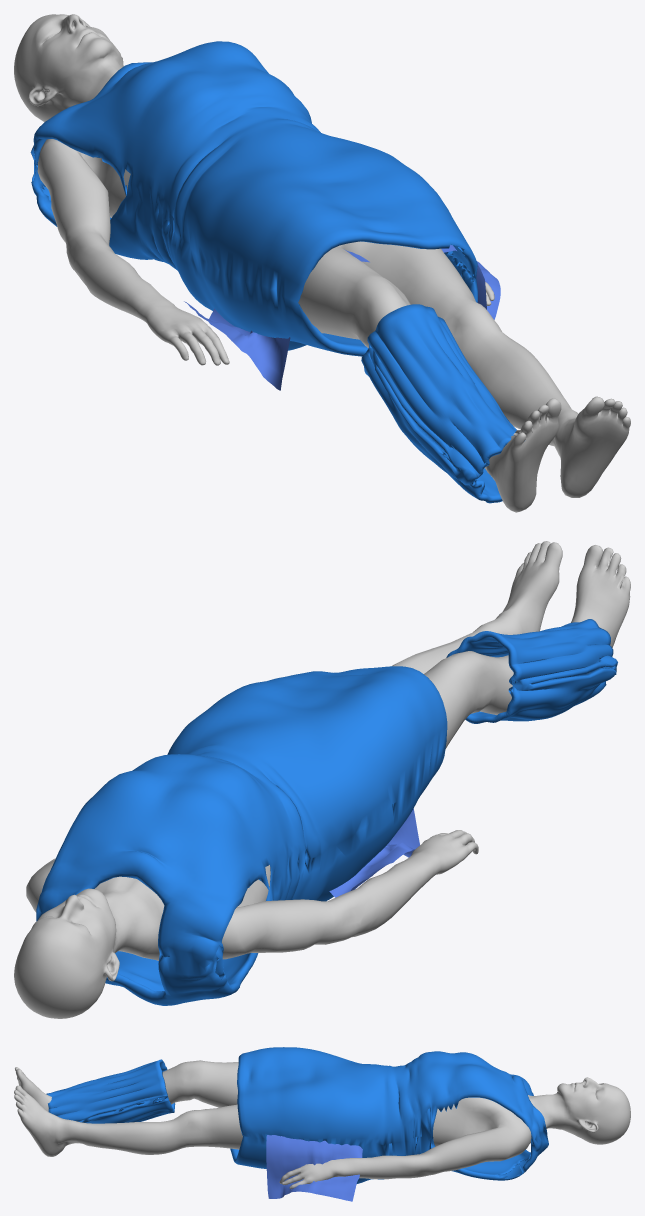
File: KNEEPATIENT.fbx
3 renders of one model, top to bottom at view 1: azimuth 30°, elevation 25°; view 2: azimuth 150°, elevation 25°; view 3: azimuth 270°, elevation 25°, orthographic. The views are drawn at different scales.
Parts seen in each view (by area): view 1: Clothes, Patient, Plane, Serviette; view 2: Clothes, Patient, Plane, Serviette; view 3: Clothes, Patient, Plane, Serviette.
Boxes of the visible parts, bbox=[...] form: Clothes: bbox=[30, 41, 477, 356]; Patient: bbox=[14, 14, 630, 512]; Plane: bbox=[361, 304, 516, 503]; Serviette: bbox=[184, 245, 500, 390]; Clothes: bbox=[36, 666, 447, 1005]; Patient: bbox=[14, 541, 630, 1018]; Plane: bbox=[446, 619, 617, 723]; Serviette: bbox=[329, 808, 419, 897]; Clothes: bbox=[230, 1047, 548, 1183]; Patient: bbox=[14, 1060, 630, 1189]; Plane: bbox=[46, 1059, 175, 1123]; Serviette: bbox=[266, 1135, 362, 1201].
Bounding box in the file's own units: 70.56 × 41 × 198.
